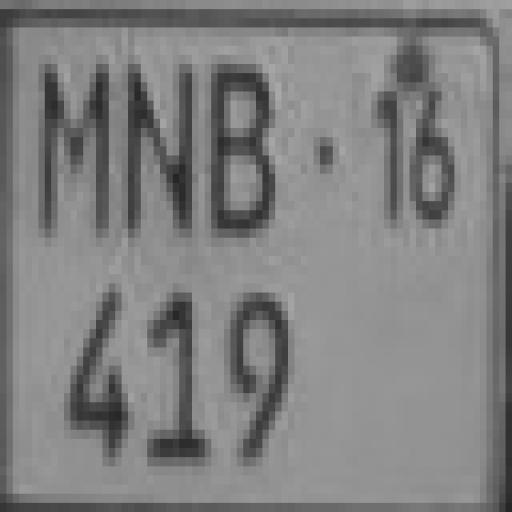1: (137, 284, 214, 464)
4: (66, 267, 132, 471)
9: (220, 291, 304, 482)
B: (206, 58, 280, 240)
M: (36, 61, 114, 237)
N: (120, 64, 197, 253)
